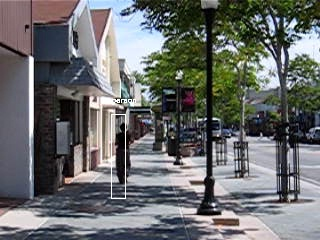person: (115, 123, 134, 184), (114, 123, 133, 184), (116, 123, 135, 184), (115, 122, 134, 183), (115, 124, 134, 185)
target_negative: (28, 173, 217, 227), (74, 105, 319, 126), (34, 139, 271, 142), (4, 95, 9, 215), (223, 236, 285, 238), (141, 238, 193, 239)
